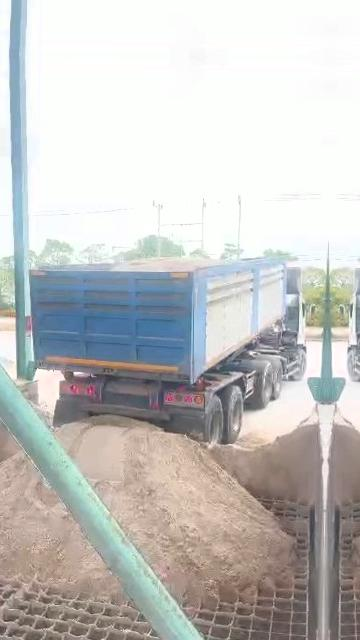sand: (57, 416, 293, 599), (0, 454, 120, 593), (210, 415, 319, 504), (111, 257, 224, 272), (0, 410, 18, 467)
